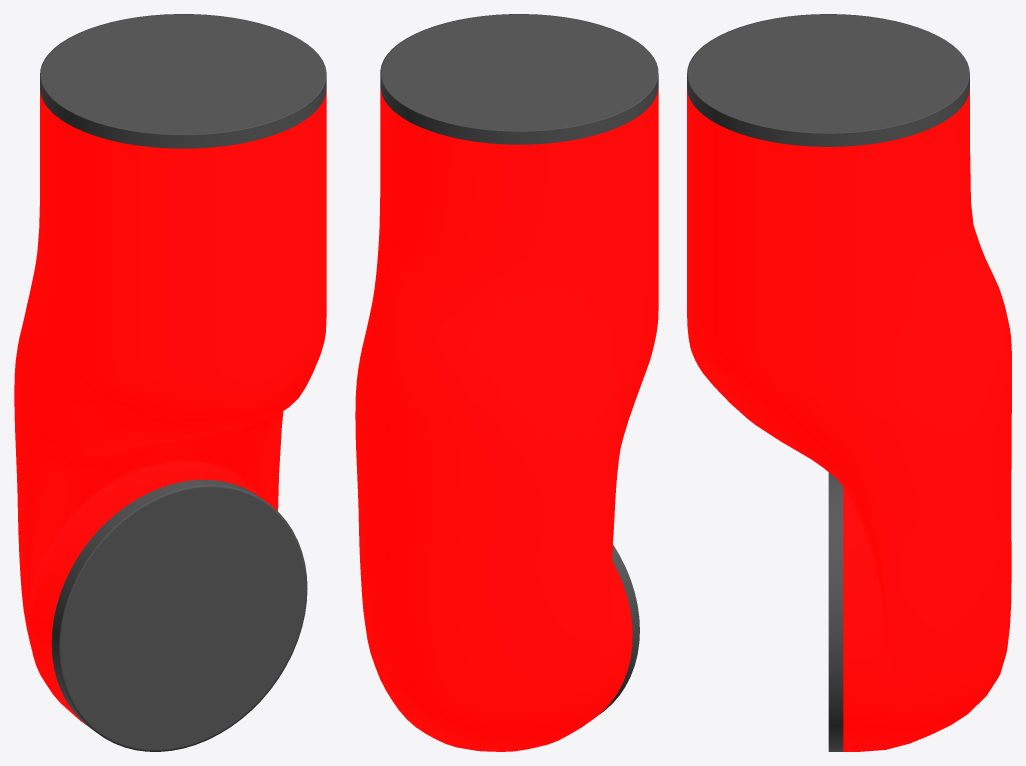
3 renders of one model, left to right at view 1: azimuth 30°, elevation 25°; view 2: azimuth 150°, elevation 25°; view 3: azimuth 270°, elevation 25°, orthographic. The views are drawn at different scales.
Parts seen in each view (by area): view 1: Link02; view 2: Link02; view 3: Link02.
Boxes of the visible parts, x1=… form: Link02: x1=14, y1=14, x2=326, y2=751; Link02: x1=355, y1=14, x2=658, y2=751; Link02: x1=687, y1=14, x2=1011, y2=751.
Bounding box in the file's own units: 0.0955 × 0.1097 × 0.2478.
